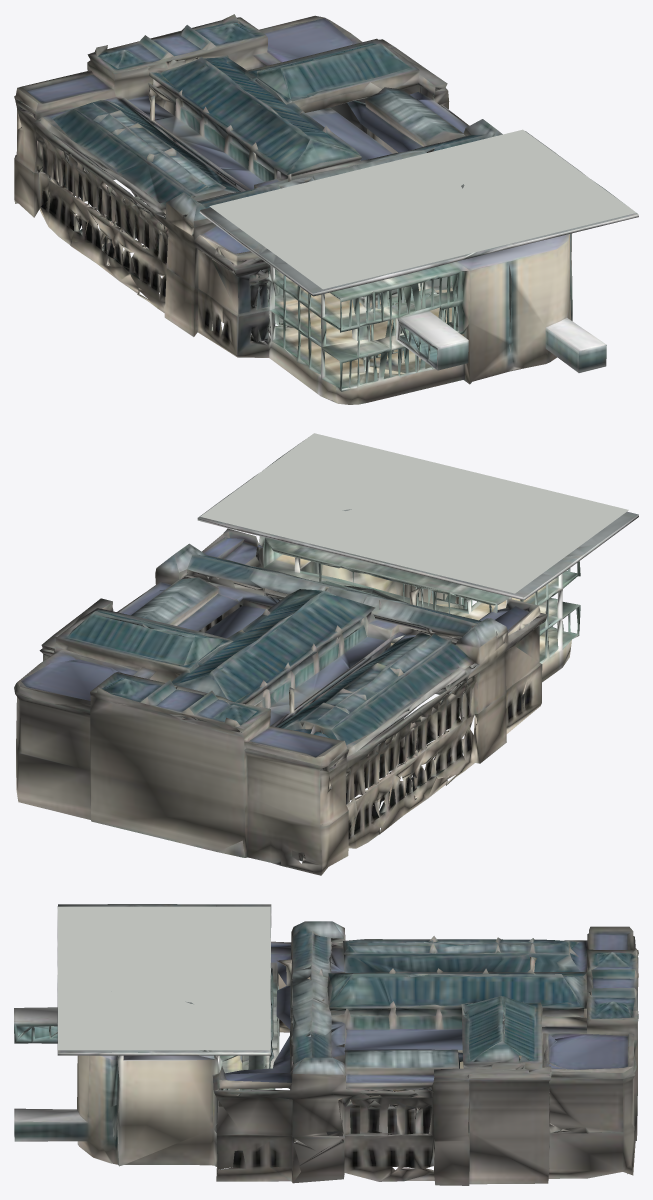
File: art_institute_rear.glb
3 views of the same model, one above another, from view 1: azimuth 30°, elevation 25°; view 2: azimuth 150°, elevation 25°; view 3: azimuth 270°, elevation 25° (orthographic). The views are drawn at different scales.
Visible parts, largest first — view 1: art_institute_rear; view 2: art_institute_rear; view 3: art_institute_rear.
Part boxes in pixels (<box>): art_institute_rear: <box>14,14,638,404</box>; art_institute_rear: <box>14,433,638,875</box>; art_institute_rear: <box>14,904,638,1185</box>.
Bounding box in the file's own units: 61.15 × 24.91 × 105.
Materials: 1 (1 with a texture image).
